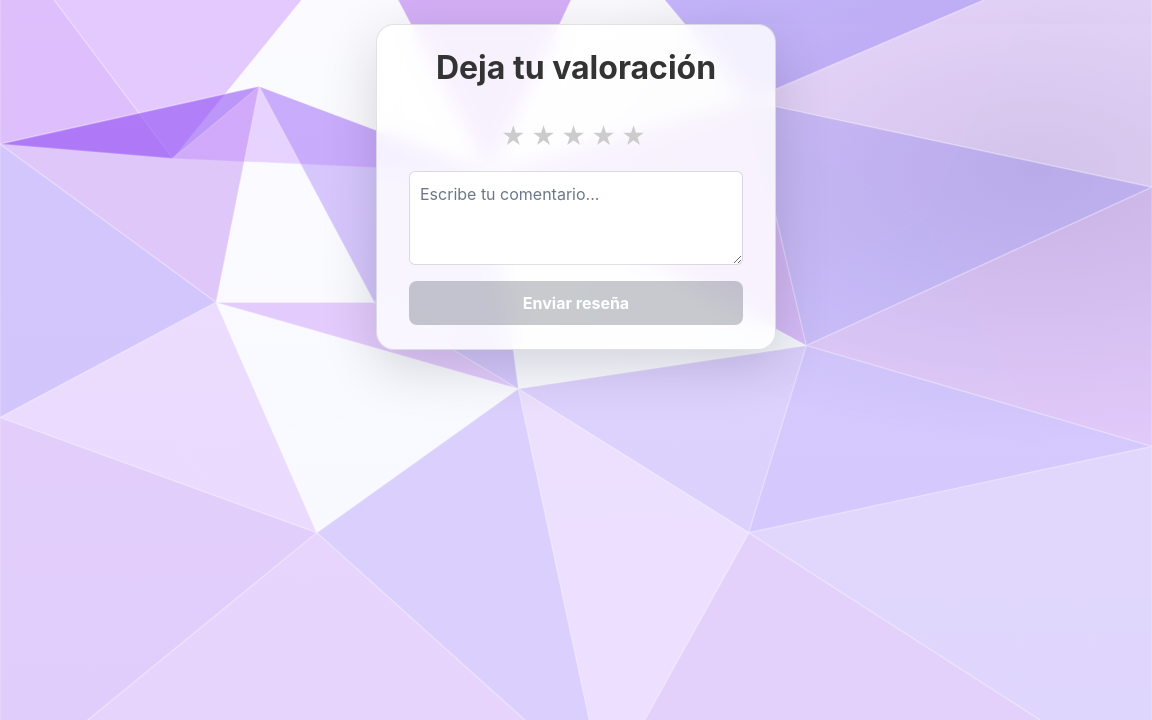
Valoraciones - Alto Impacto › Rating › resetea rating a 0 al hacer click en la misma estrella
What coordinates should you click on to do the following:
click the 4th text "★"
I would click on:
 (604, 137)
Its box is x1=591 y1=122 x2=616 y2=151.
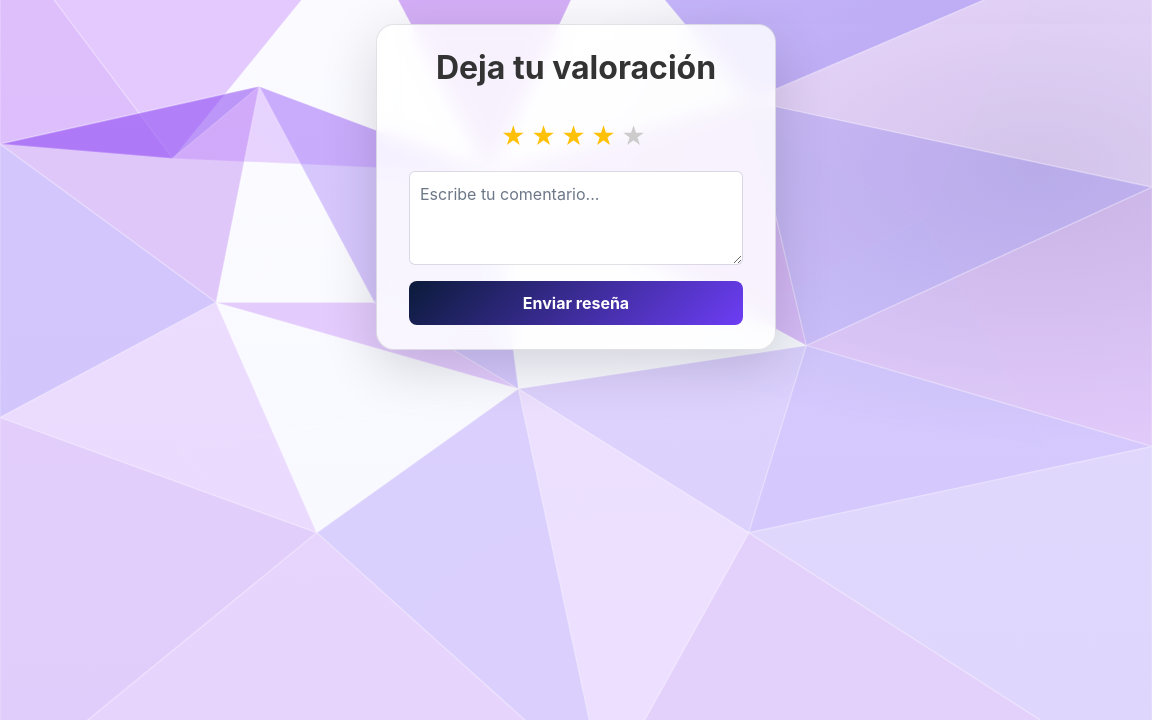
// Simulamos comportamiento esperando que el fix 1.3 de Valoraciones.tsx esté aplicado
What coordinates should you click on to do the following:
click the 4th text "★"
I would click on:
 (604, 137)
Its box is x1=591 y1=122 x2=616 y2=151.
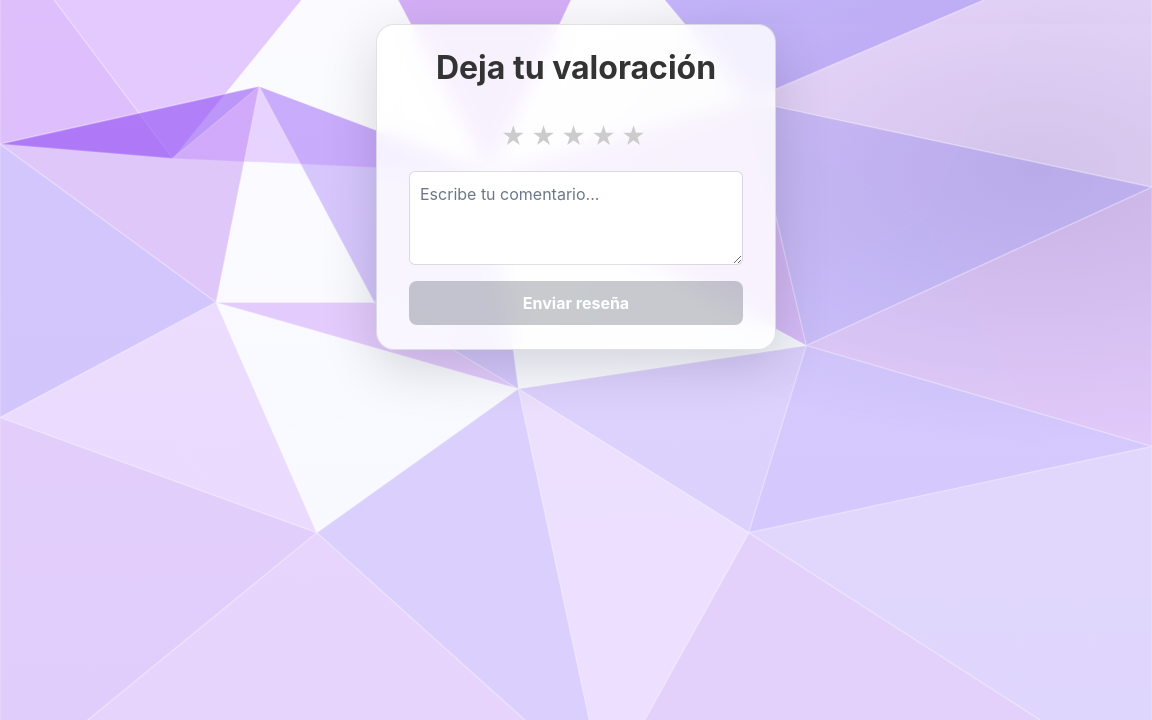
Expected: the button "Enviar reseña" is disabled, x1=409 y1=281 x2=743 y2=325
